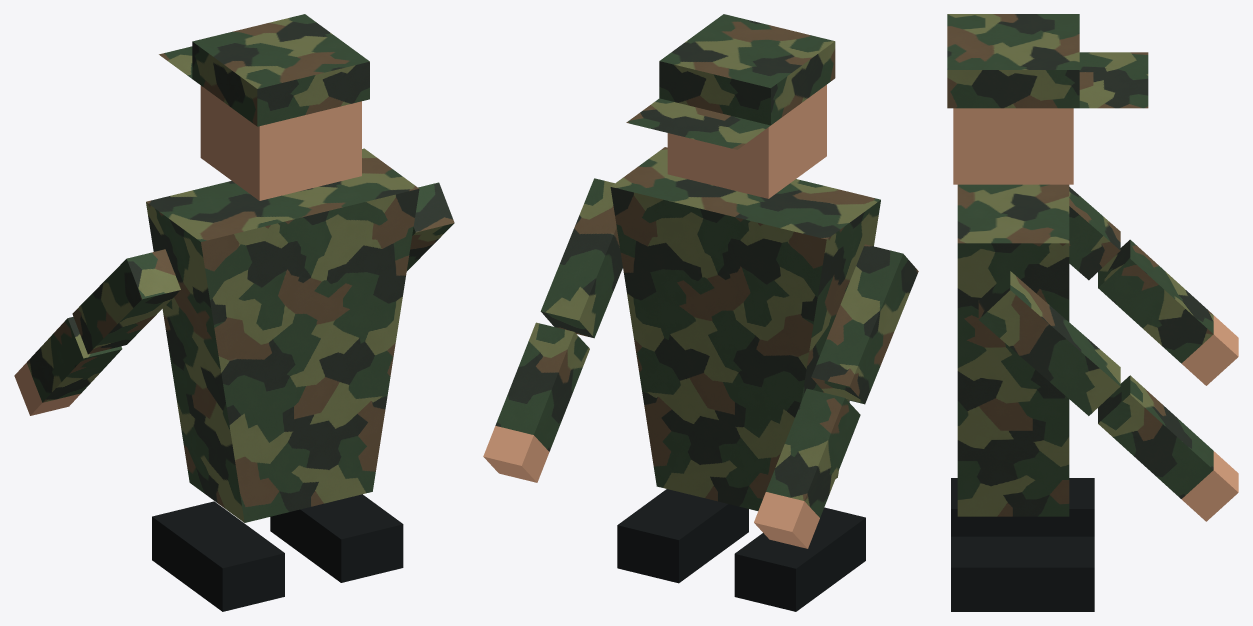
The model's file is militia.glb.
The picture shows the model from 3 angles, left to right: view 1: azimuth 30°, elevation 25°; view 2: azimuth 150°, elevation 25°; view 3: azimuth 270°, elevation 25°; orthographic projection. The views are drawn at different scales.
Parts seen in each view (by area): view 1: body.002, hat.003, head.001, ShoeLeft.007, ShoeRight.006, armLeft.008, handLeft.009, armRight.004; view 2: body.002, hat.003, handLeft.009, handRight.005, armLeft.008, head.001, ShoeRight.006, ShoeLeft.007, armRight.004; view 3: body.002, hat.003, ShoeRight.006, head.001, armRight.004, handLeft.009, handRight.005, ShoeLeft.007, armLeft.008.
Boxes of the visible parts, x1=… form: body.002: x1=146, y1=148, x2=419, y2=522; hat.003: x1=159, y1=14, x2=369, y2=126; head.001: x1=200, y1=85, x2=361, y2=200; ShoeLeft.007: x1=152, y1=501, x2=284, y2=611; ShoeRight.006: x1=270, y1=494, x2=403, y2=582; armLeft.008: x1=72, y1=249, x2=180, y2=354; handLeft.009: x1=14, y1=316, x2=122, y2=415; armRight.004: x1=406, y1=182, x2=454, y2=271; body.002: x1=610, y1=147, x2=880, y2=510; hat.003: x1=626, y1=14, x2=835, y2=149; handLeft.009: x1=754, y1=388, x2=860, y2=548; handRight.005: x1=483, y1=322, x2=589, y2=482; armLeft.008: x1=811, y1=244, x2=918, y2=404; head.001: x1=667, y1=84, x2=826, y2=198; ShoeRight.006: x1=617, y1=489, x2=748, y2=583; ShoeLeft.007: x1=734, y1=507, x2=865, y2=611; armRight.004: x1=540, y1=178, x2=622, y2=338; body.002: x1=957, y1=184, x2=1069, y2=516; hat.003: x1=947, y1=14, x2=1148, y2=108; ShoeRight.006: x1=951, y1=536, x2=1094, y2=611; head.001: x1=953, y1=108, x2=1073, y2=184; armRight.004: x1=978, y1=271, x2=1120, y2=415; handLeft.009: x1=1098, y1=239, x2=1238, y2=385; handRight.005: x1=1098, y1=375, x2=1238, y2=521; ShoeLeft.007: x1=951, y1=478, x2=1094, y2=536; armLeft.008: x1=1069, y1=187, x2=1120, y2=280.
Bounding box in the file's own units: 1.02 × 1.61 × 0.8095.
Materials: 3 (1 with a texture image).
